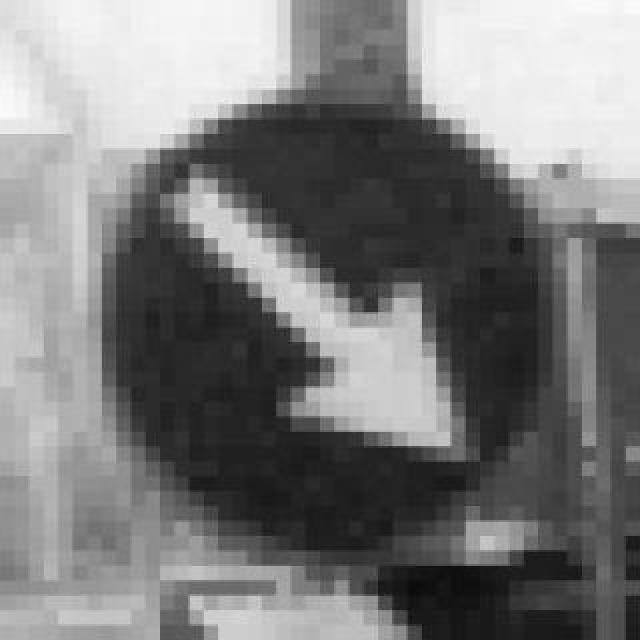keep right: (86, 60, 538, 552)
